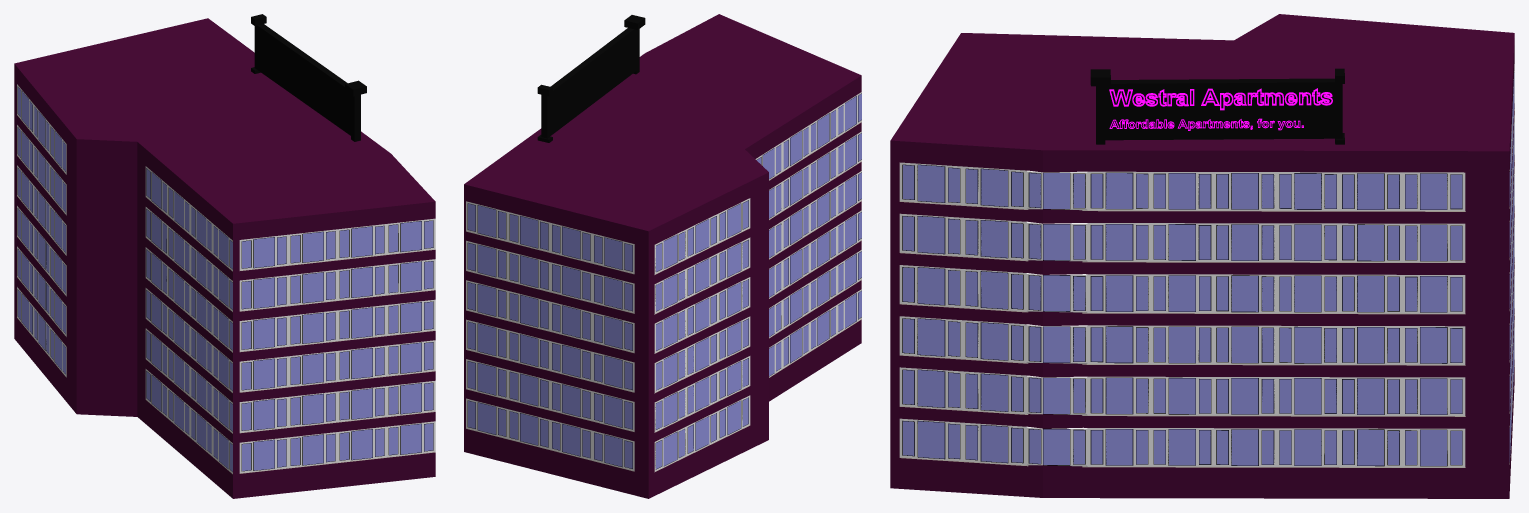
The model's file is WestralApartments.fbx.
The picture shows the model from 3 angles, left to right: view 1: azimuth 30°, elevation 25°; view 2: azimuth 150°, elevation 25°; view 3: azimuth 270°, elevation 25°; orthographic projection. The views are drawn at different scales.
Visible parts, largest first — view 1: WestralApartments; view 2: WestralApartments; view 3: WestralApartments.
Part boxes in pixels (<box>): WestralApartments: <box>14,14,435,498</box>; WestralApartments: <box>464,14,861,498</box>; WestralApartments: <box>890,14,1514,498</box>.
Size of the model in its own units: 1524 by 2158 by 2929.
